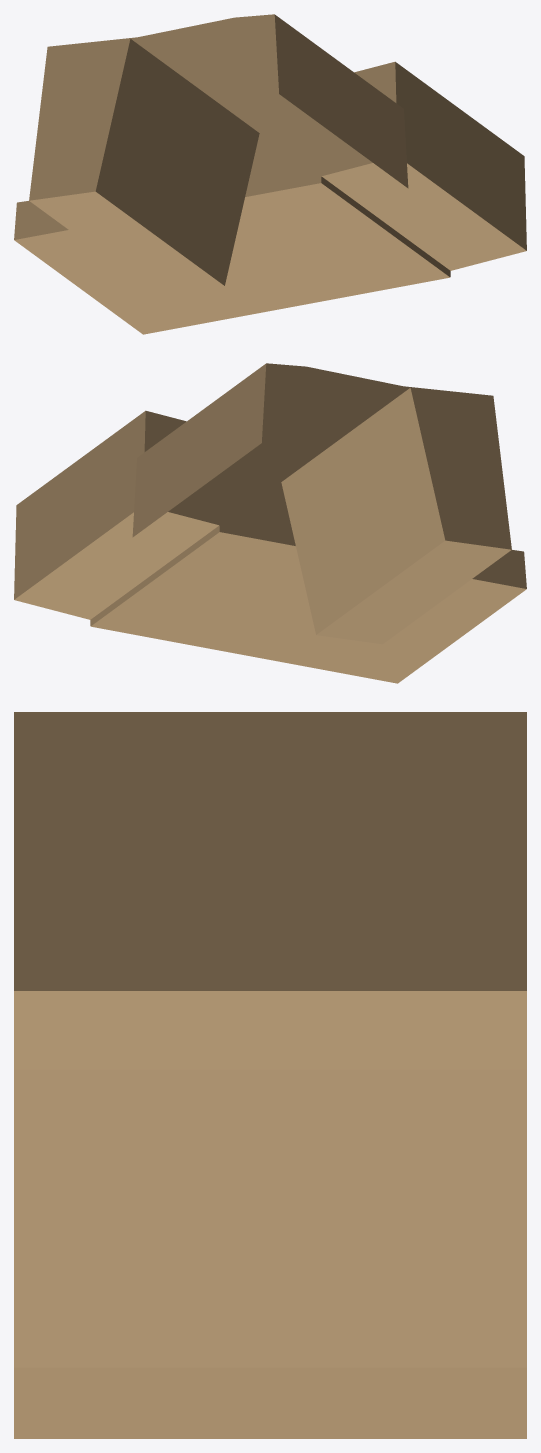
The picture shows the model from 3 angles, top to bottom: view 1: azimuth 30°, elevation 25°; view 2: azimuth 150°, elevation 25°; view 3: azimuth 270°, elevation 25°; orthographic projection. The views are drawn at different scales.
Visible parts, largest first — view 1: 0_3_0_1_1_1_0_2; view 2: 0_3_0_1_1_1_0_2; view 3: 0_3_0_1_1_1_0_2.
Part boxes in pixels (x1=…): 0_3_0_1_1_1_0_2: x1=14, y1=14, x2=526, y2=334; 0_3_0_1_1_1_0_2: x1=14, y1=363, x2=526, y2=683; 0_3_0_1_1_1_0_2: x1=14, y1=712, x2=526, y2=1438.
Size of the model in its own units: 46.3 by 23.41 by 27.
